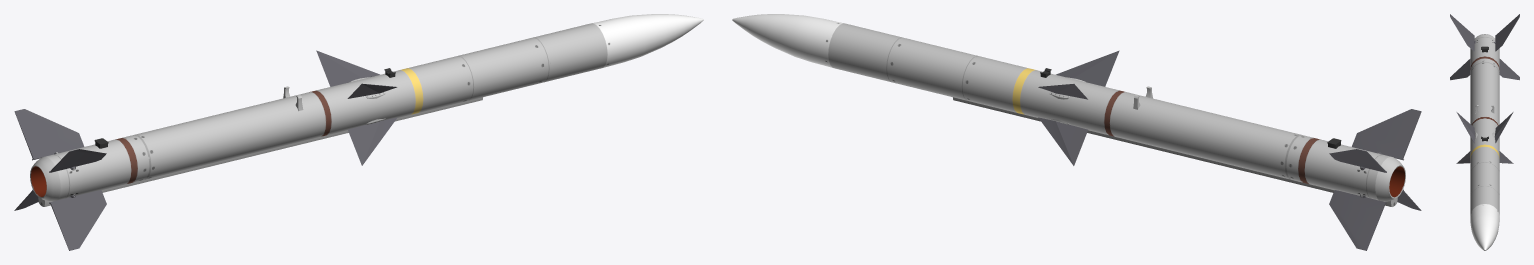
File: missile.glb
3 renders of one model, left to right at view 1: azimuth 30°, elevation 25°; view 2: azimuth 150°, elevation 25°; view 3: azimuth 270°, elevation 25°, orthographic. The views are drawn at different scales.
Visible parts, largest first — view 1: Aim-120; view 2: Aim-120; view 3: Aim-120.
Boxes of the visible parts, <box> form: Aim-120: <box>14,14,703,250</box>; Aim-120: <box>732,14,1421,250</box>; Aim-120: <box>1450,14,1519,250</box>.
Size of the model in its own units: 3.7 by 0.5305 by 0.5305.
Materials: 1 (1 with a texture image).
